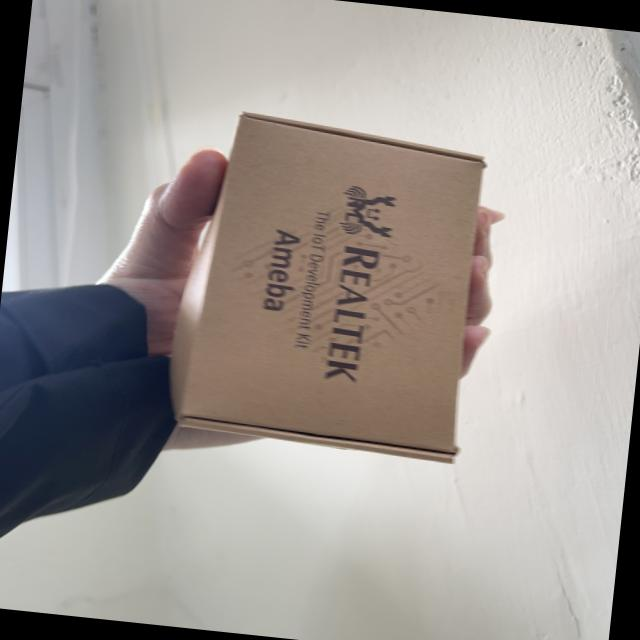box: (160, 91, 515, 485)
